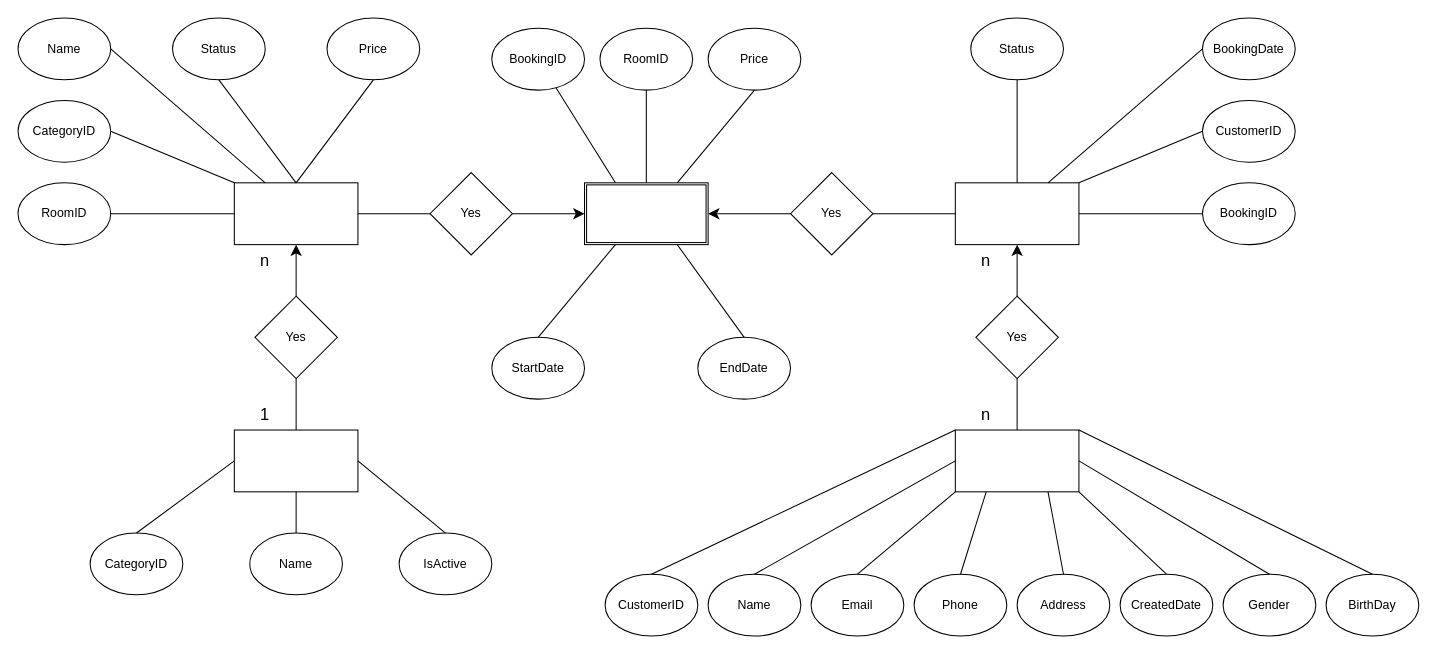
The diagram is 1437 pixels wide and 654 high, and some of its shapes have lost their labels. The centre of each missing label's shape, as x and y in pixels:
Booking: the point at 1016,213
BookingDetail: the point at 645,213
Category: the point at 295,460
Customer: the point at 1016,460
Room: the point at 295,213
